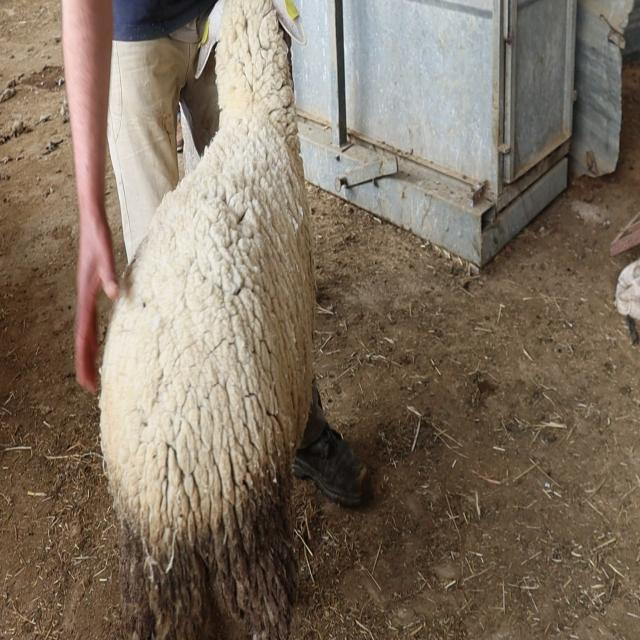Score_4: (100, 0, 315, 639)
